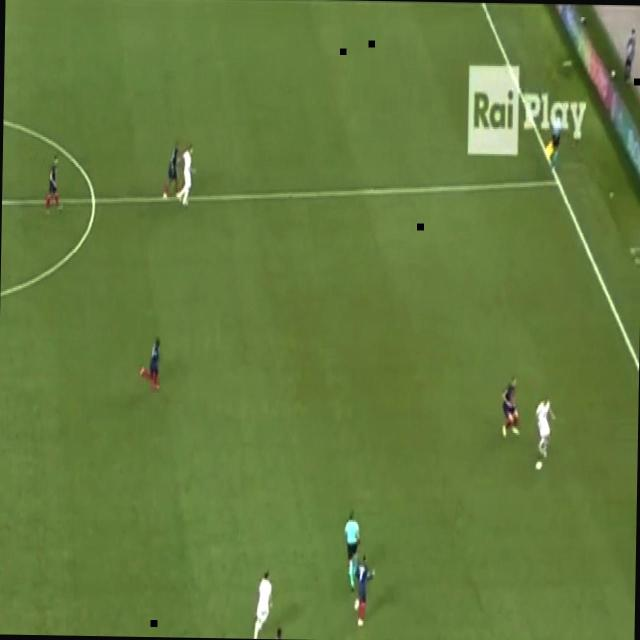ball: (534, 459, 544, 472), (610, 67, 616, 79)
player-white: (341, 507, 363, 595), (353, 552, 377, 629), (498, 372, 522, 440), (533, 395, 557, 461), (251, 567, 273, 639), (175, 144, 197, 208), (138, 334, 162, 392), (162, 140, 182, 204), (44, 153, 62, 220), (543, 113, 562, 173), (263, 624, 288, 640), (373, 637, 394, 640)
